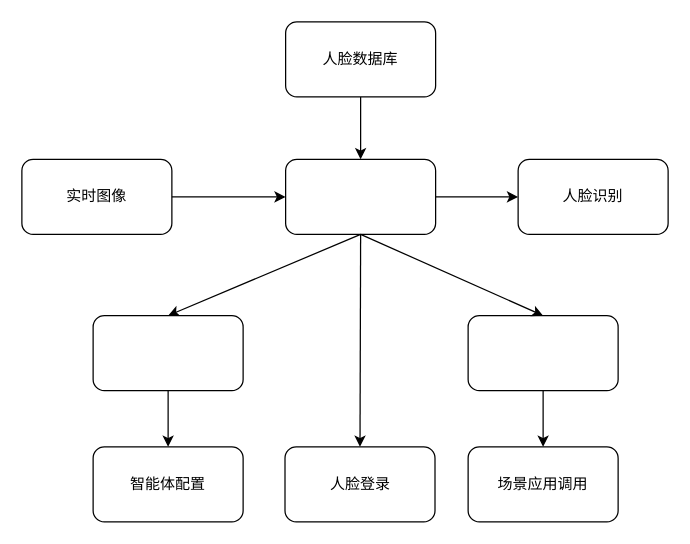
This 690x544 diagram has some shape labels left out. The shapes that lost their labels are listed below. From the top down, each one's centre as x and y in pixels, then its label:
the point at 360,196: 人脸识别模型
the point at 167,352: 工具封装
the point at 542,352: REST 接口
